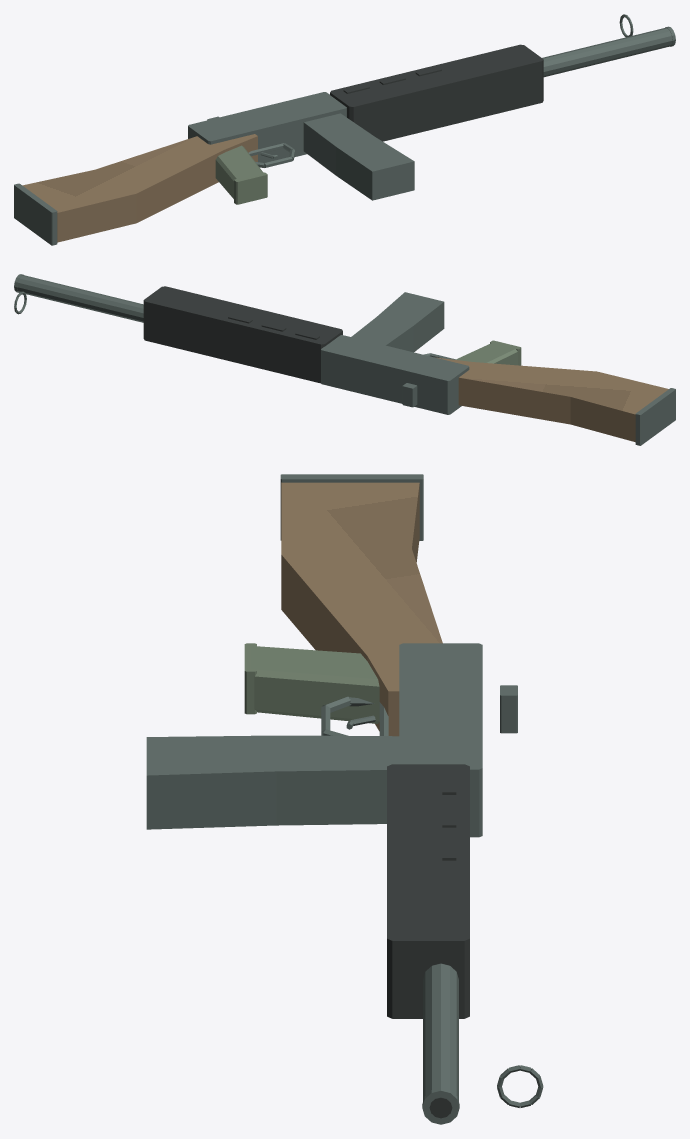
Rendered from weapon-g3.glb.
The picture shows the model from 3 angles, top to bottom: view 1: azimuth 30°, elevation 25°; view 2: azimuth 150°, elevation 25°; view 3: azimuth 270°, elevation 25°; orthographic projection. The views are drawn at different scales.
Visible parts, largest first — view 1: weapon-g3/independent-forehandguard, weapon-g3/shaped-solid-butt, weapon-g3/distinct-detachable-magazine, weapon-g3/full-depth-receiver, weapon-g3/round-barrel, weapon-g3/butt-end-plate, weapon-g3/distinct-eight-sided-pistol-grip, weapon-g3/distinct-eight-sided-pistol-grip-heel; view 2: weapon-g3/independent-forehandguard, weapon-g3/shaped-solid-butt, weapon-g3/full-depth-receiver, weapon-g3/distinct-detachable-magazine, weapon-g3/round-barrel, weapon-g3/butt-end-plate, weapon-g3/distinct-eight-sided-pistol-grip, weapon-g3/rear-sight; view 3: weapon-g3/shaped-solid-butt, weapon-g3/distinct-detachable-magazine, weapon-g3/independent-forehandguard, weapon-g3/full-depth-receiver, weapon-g3/distinct-eight-sided-pistol-grip, weapon-g3/round-barrel, weapon-g3/butt-end-plate.
Boxes of the visible parts, x1,y1,x2,y2 form: weapon-g3/independent-forehandguard: (330,44,543,141); weapon-g3/shaped-solid-butt: (22,134,257,242); weapon-g3/distinct-detachable-magazine: (303,113,414,200); weapon-g3/full-depth-receiver: (188,92,346,162); weapon-g3/round-barrel: (542,28,672,77); weapon-g3/butt-end-plate: (14,183,57,245); weapon-g3/distinct-eight-sided-pistol-grip: (215,145,263,198); weapon-g3/distinct-eight-sided-pistol-grip-heel: (234,172,267,204); weapon-g3/independent-forehandguard: (143,286,342,383); weapon-g3/shaped-solid-butt: (436,357,668,442); weapon-g3/full-depth-receiver: (321,335,469,414); weapon-g3/distinct-detachable-magazine: (351,292,444,352); weapon-g3/round-barrel: (17,275,143,322); weapon-g3/butt-end-plate: (635,388,675,445); weapon-g3/distinct-eight-sided-pistol-grip: (455,342,517,365); weapon-g3/rear-sight: (402,383,417,407); weapon-g3/shaped-solid-butt: (281,482,442,736); weapon-g3/distinct-detachable-magazine: (146,735,399,829); weapon-g3/independent-forehandguard: (387,764,469,1018); weapon-g3/full-depth-receiver: (399,643,482,837); weapon-g3/distinct-eight-sided-pistol-grip: (251,646,379,723); weapon-g3/round-barrel: (423,963,458,1101); weapon-g3/butt-end-plate: (280,474,423,540).
Bounding box in the file's own units: 1.03 × 0.066 × 0.2857.
Materials: 4 (4 with a texture image).
